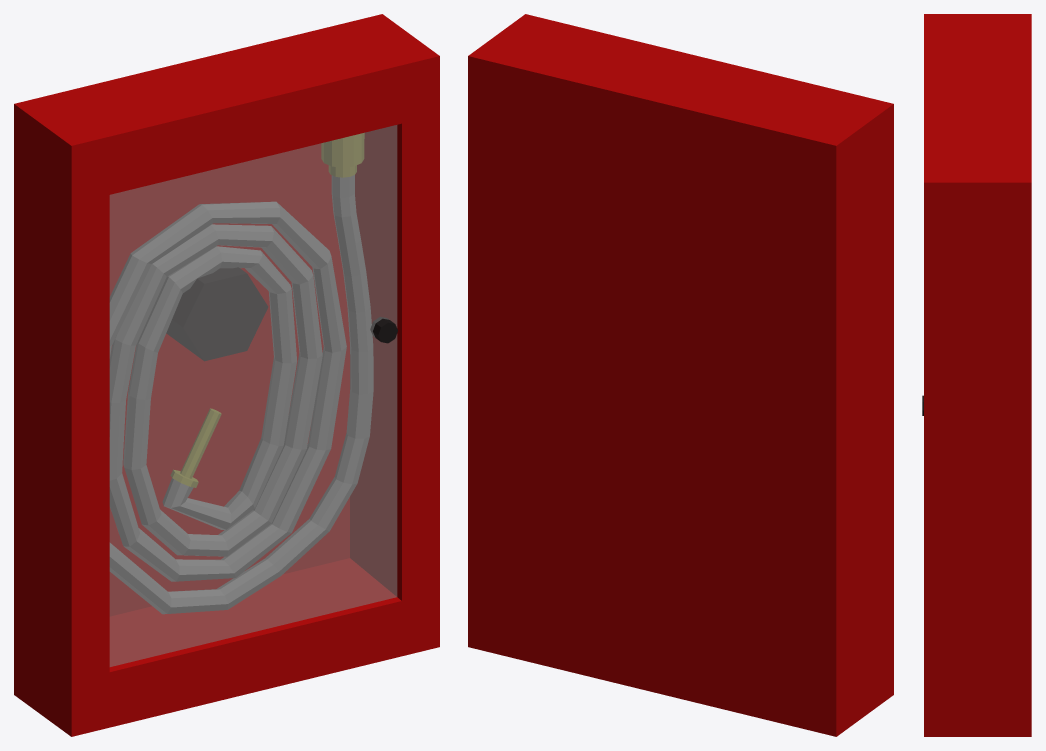
The model's file is mangueira.fbx.
The picture shows the model from 3 angles, left to right: view 1: azimuth 30°, elevation 25°; view 2: azimuth 150°, elevation 25°; view 3: azimuth 270°, elevation 25°; orthographic projection. The views are drawn at different scales.
Parts seen in each view (by area): view 1: pCylinder39; view 2: pCylinder39; view 3: pCylinder39.
Part boxes in pixels (bbox=[...]): pCylinder39: bbox=[14, 14, 439, 736]; pCylinder39: bbox=[468, 14, 893, 736]; pCylinder39: bbox=[922, 14, 1031, 736].
Size of the model in its own units: 0.5897 by 0.904 by 0.1618.
